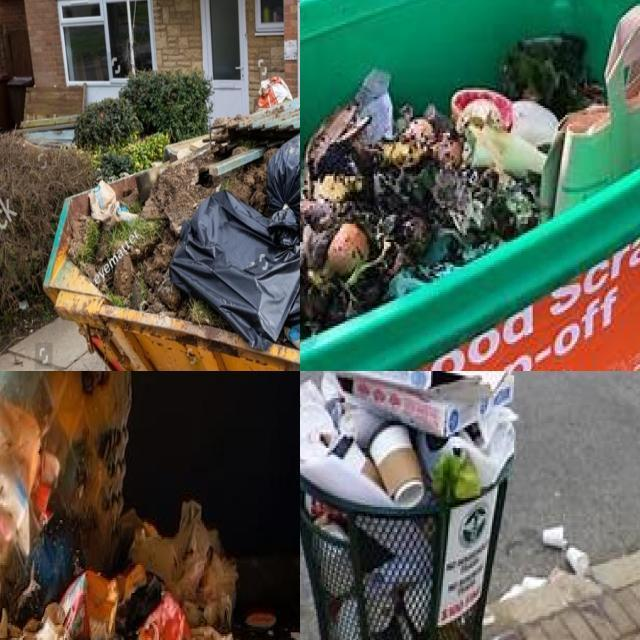Garbage: (300, 0, 640, 339), (0, 371, 236, 640), (68, 78, 300, 349), (300, 371, 516, 506)
Plastic: (356, 68, 393, 145)
Plastic_Bag: (542, 4, 640, 218), (170, 190, 300, 348), (500, 36, 606, 119), (267, 134, 300, 245), (511, 101, 559, 147), (258, 75, 292, 108), (284, 323, 300, 350)
Plastic_Container: (0, 371, 130, 616)
Plastic_wraper: (61, 569, 120, 640)
